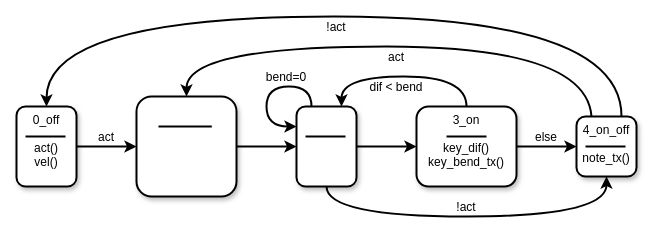
Image size: 653x233. Some labels were removed from this diagram. Each missing label, with the centre of its shape:
"1_off_on cc_tx() key() frac_bend_tx() note_tx()" goes at point (187, 147).
"2_on act() cc_tx()" goes at point (327, 147).
